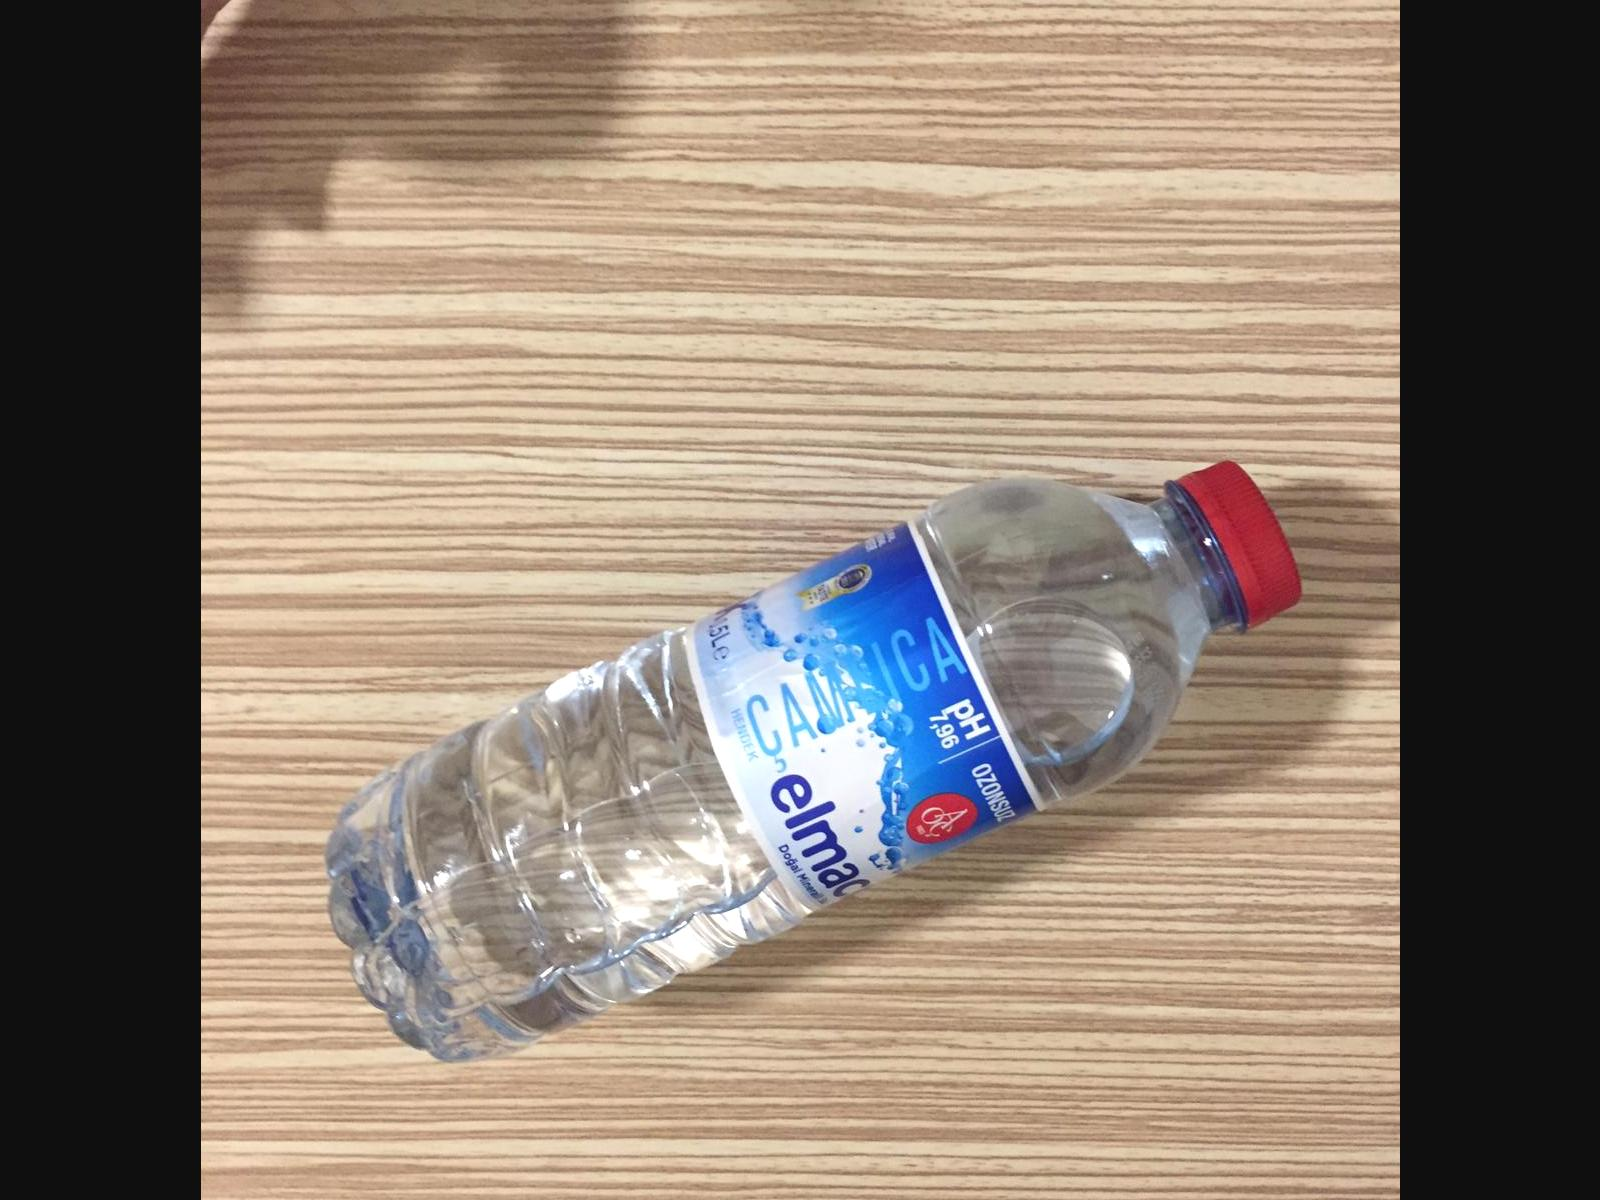bottle: (329, 459, 1306, 1070)
